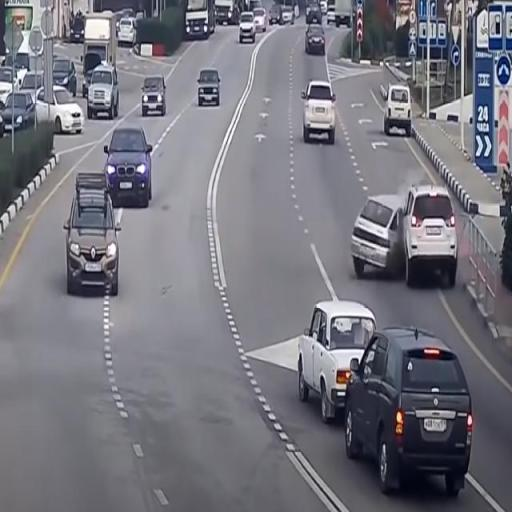小汽车: (344, 330, 474, 488), (294, 301, 376, 421), (70, 170, 120, 296), (106, 127, 154, 203), (36, 85, 84, 134), (303, 80, 337, 146), (88, 65, 120, 116), (386, 86, 413, 138), (197, 70, 221, 108), (141, 77, 165, 115)
小汽车撞小汽车: (352, 183, 460, 284)
